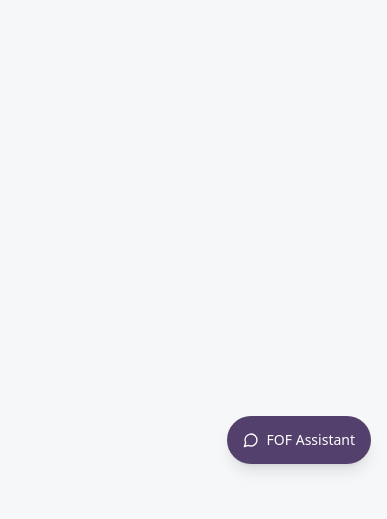
Test: FOF assistant browser boundary › blocks a lowercase first name copied from the current form before any network call
This screenshot has width=387, height=519.
Click the button "FOF Assistant": point(299, 440) [227,416,371,464]
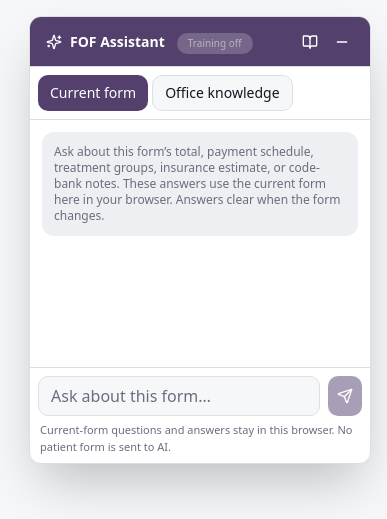
Click the button "Office knowledge": point(222, 93) [152,75,293,111]
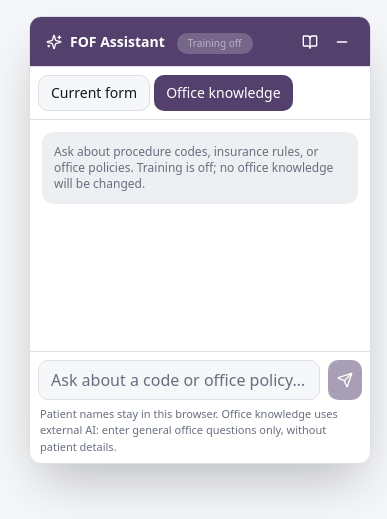
In the field with placeholder "Ask about a code or office policy…": point(179, 380) [38,360,320,400], type "avery needs a crown"
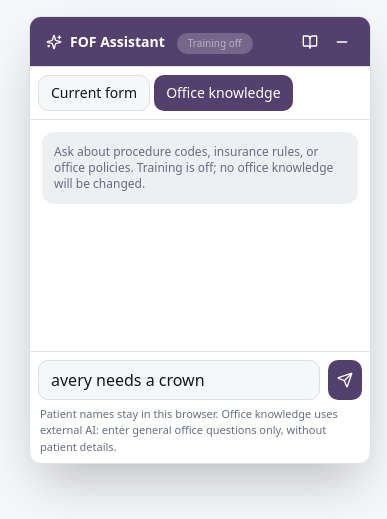
Press Enter in the field with placeholder "Ask about a code or office policy…", box [38,360,320,400]
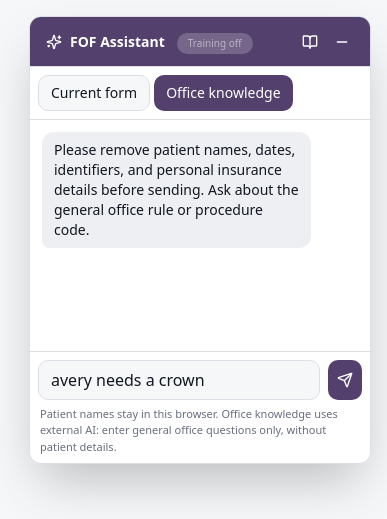
Now the text "Please remove patient names" is shown, box [54,140,302,239]
